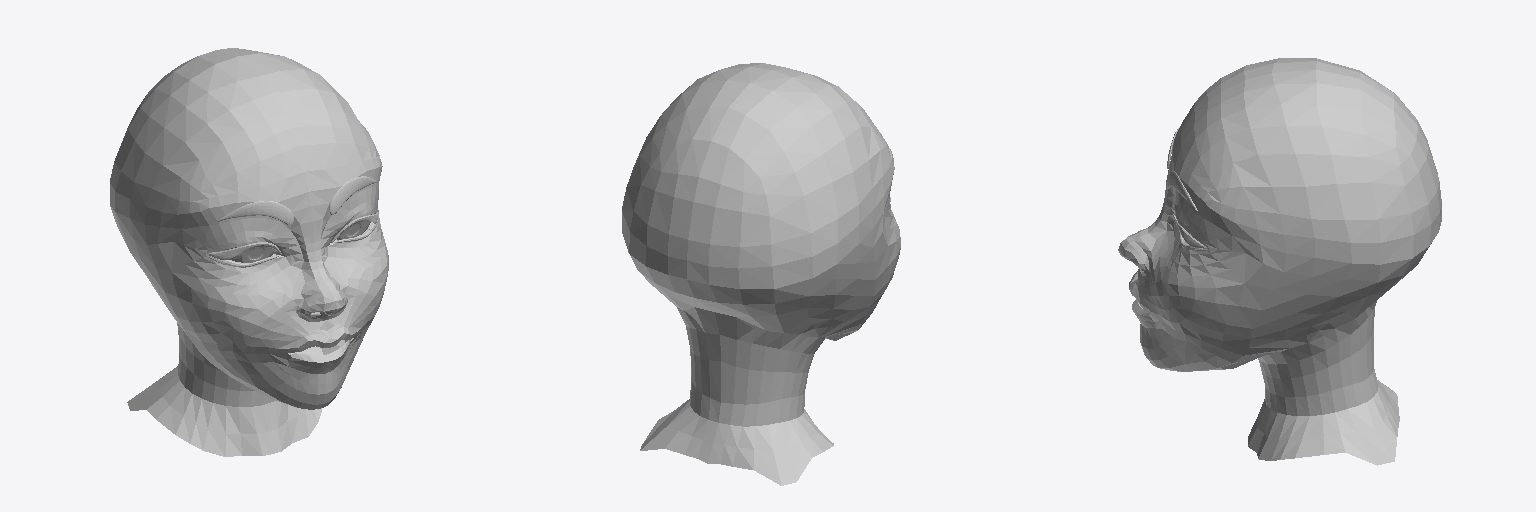
3 renders of one model, left to right at view 1: azimuth 30°, elevation 25°; view 2: azimuth 150°, elevation 25°; view 3: azimuth 270°, elevation 25°, orthographic.
Visible parts, largest first — view 1: t_body_Plane.012; view 2: t_body_Plane.012; view 3: t_body_Plane.012.
Boxes of the visible parts, <box> form: t_body_Plane.012: <box>110,48,388,456</box>; t_body_Plane.012: <box>622,63,900,485</box>; t_body_Plane.012: <box>1118,58,1441,465</box>.
Bounding box in the file's own units: 0.7869 × 1.29 × 1.01.